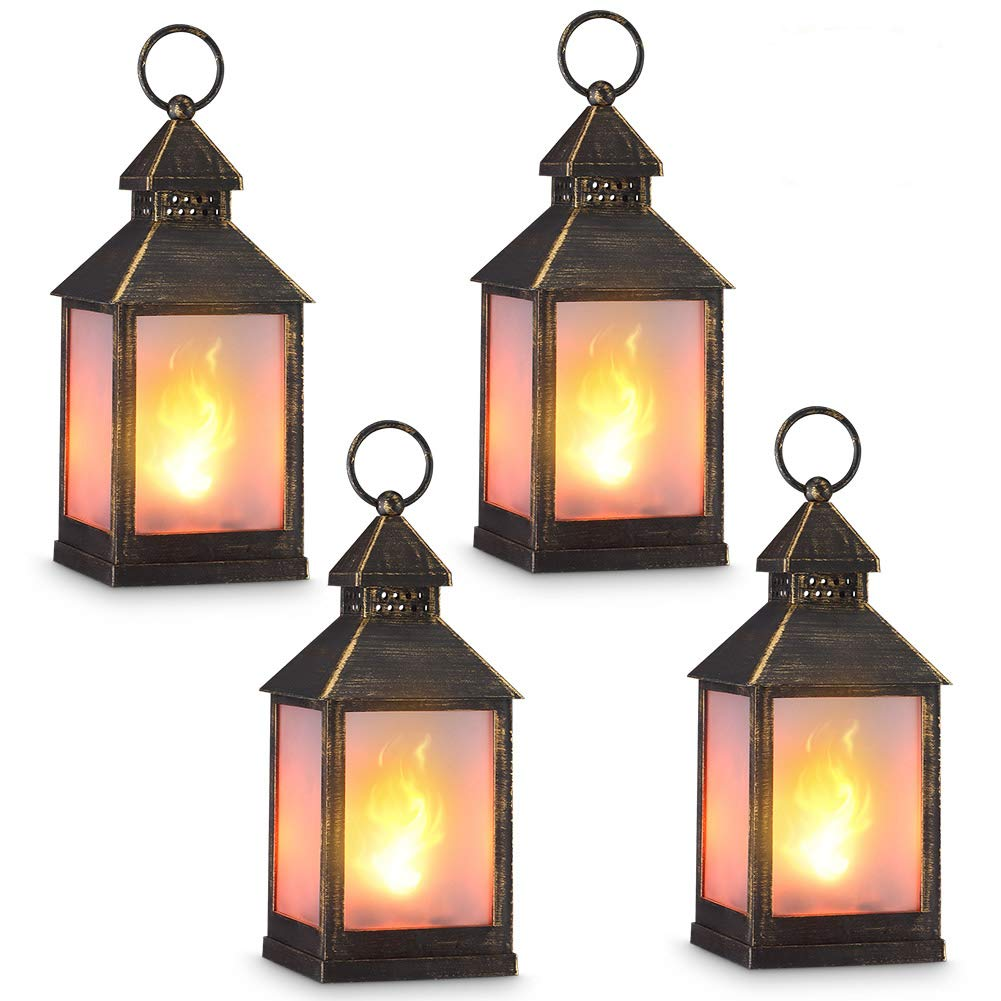Open-Flame-Hazard: (450, 4, 752, 585), (34, 0, 326, 599), (674, 398, 953, 995), (245, 424, 527, 1001)
